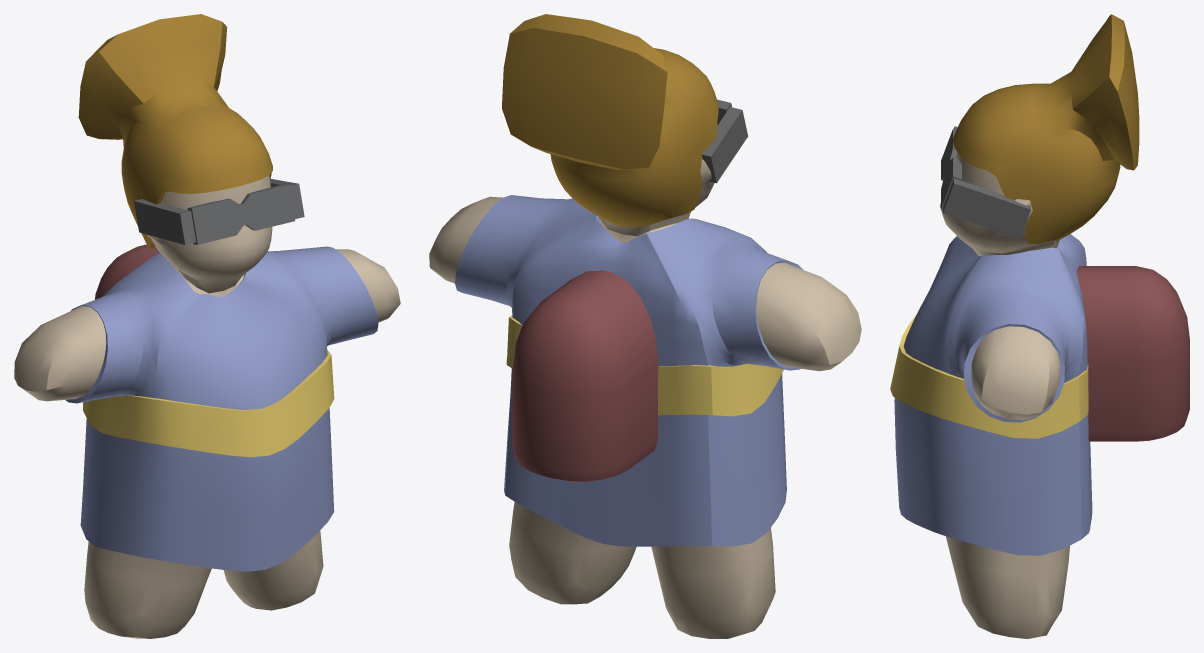
File: Headmistress3.fbx
3 views of the same model, side by side, from view 1: azimuth 30°, elevation 25°; view 2: azimuth 150°, elevation 25°; view 3: azimuth 270°, elevation 25° (orthographic). The views are drawn at different scales.
Parts seen in each view (by area): view 1: Cube.025, Cube.023, Cube.024, Cube.027, Plane, Cube.026; view 2: Cube.025, Cube.024, Cube.023, Cube.026, Cube.027, Plane; view 3: Cube.025, Cube.024, Cube.023, Cube.026, Cube.027, Plane.
Part boxes in pixels (x1=…): Cube.025: x1=65, y1=246, x2=378, y2=571; Cube.023: x1=14, y1=175, x2=400, y2=638; Cube.024: x1=78, y1=14, x2=272, y2=248; Cube.027: x1=83, y1=350, x2=334, y2=457; Plane: x1=134, y1=179, x2=304, y2=244; Cube.026: x1=95, y1=244, x2=159, y2=299; Cube.025: x1=455, y1=195, x2=803, y2=546; Cube.024: x1=502, y1=14, x2=718, y2=227; Cube.023: x1=429, y1=159, x2=861, y2=638; Cube.026: x1=512, y1=270, x2=658, y2=482; Cube.027: x1=506, y1=315, x2=783, y2=416; Plane: x1=701, y1=99, x2=748, y2=183; Cube.025: x1=894, y1=234, x2=1092, y2=555; Cube.024: x1=952, y1=14, x2=1139, y2=243; Cube.023: x1=940, y1=152, x2=1069, y2=638; Cube.026: x1=1077, y1=266, x2=1189, y2=441; Cube.027: x1=890, y1=314, x2=1088, y2=438; Plane: x1=941, y1=126, x2=1030, y2=238.
Size of the model in its own units: 161 by 237 by 113.
